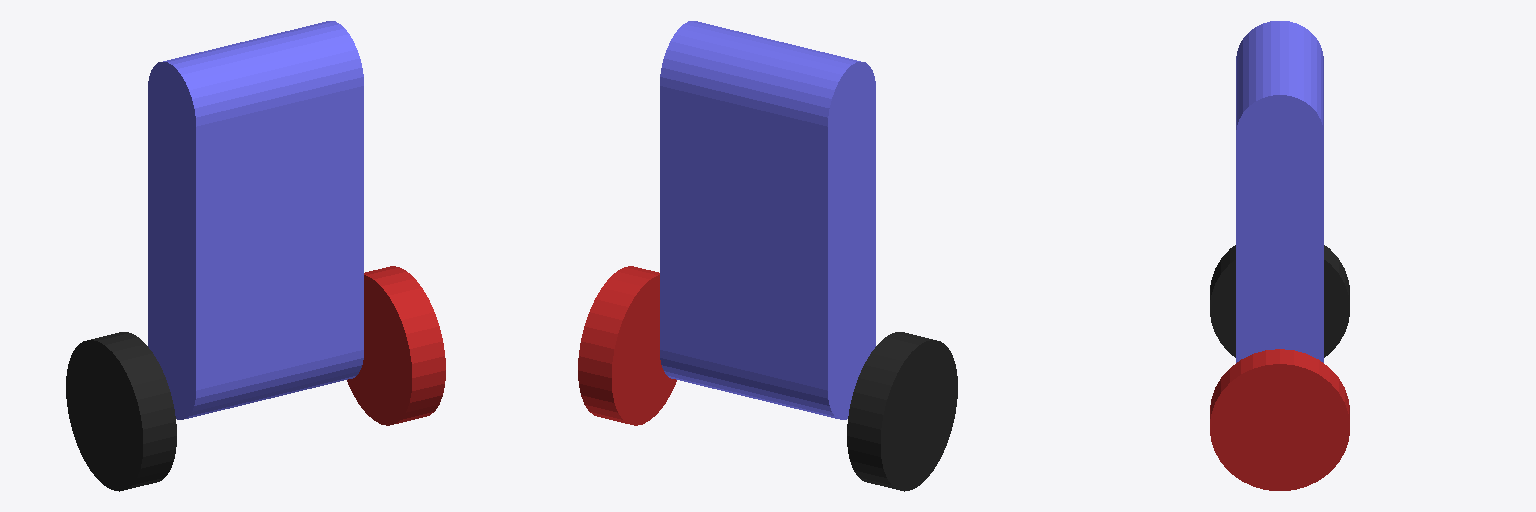
The robot description file, URDF, robot "segway_robot":
<?xml version="1.0"?>
<robot name="segway_robot">

  <!-- ============================================ -->
  <!-- BODY (Chassis)                          -->
  <!-- Dimensions: (X=20, Y=10, Z=40) cm            -->
  <!-- This is now the root link of the robot.      -->
  <!-- ============================================ -->
  <link name="body">
    <visual>
      <geometry>
        <mesh filename="bodySegway.obj"/>
      </geometry>
      <material name="blue">
        <color rgba="0.5 0.5 1 1"/>
      </material>
      <origin xyz="0 0 -0.20" rpy="0 0 0"/>
    </visual>
    
    <collision>
      <geometry>
        <box size="0.20 0.10 0.40"/>
      </geometry>
    </collision>
    
    <inertial>
      <mass value="2.5"/>
      <origin xyz="0 0 0.15" rpy="0 0 0"/>
      <inertia ixx="0.03" ixy="0.0" ixz="0.0"
               iyy="0.035" iyz="0.0" izz="0.02"/>
    </inertial>
  </link>

  <!-- ============================================ -->
  <!-- LEFT WHEEL                                   -->
  <!-- Dimensions: (Radius=8, Width=4) cm           -->
  <!-- ============================================ -->
  <link name="wheel_left">
    <visual>
      <geometry>
        <mesh filename="wheelSegway.obj"/>
      </geometry>
      <material name="black">
        <color rgba="0.2 0.2 0.2 1"/>
      </material>
      <origin xyz="-1.20 0 -0.10" rpy="0 0 0"/>
    </visual>
    
    <collision>
      <geometry>
        <cylinder radius="0.08" length="0.04"/>
      </geometry>
      <origin xyz="0 0 0" rpy="0 1.5708 0"/>
    </collision>
    
    <inertial>
      <mass value="0.15"/>
      <origin xyz="0 0 0" rpy="0 1.5708 0"/>
      <inertia ixx="0.00048" ixy="0.0" ixz="0.0"
               iyy="0.00026" iyz="0.0" izz="0.00026"/>
    </inertial>
  </link>

  <!-- ============================================ -->
  <!-- RIGHT WHEEL                                  -->
  <!-- Dimensions: (Radius=8, Width=4) cm           -->
  <!-- ============================================ -->
  <link name="wheel_right">
    <visual>
      <geometry>
        <mesh filename="wheelSegway.obj"/>
      </geometry>
      <material name="red">
        <color rgba="0.8 0.2 0.2 1"/>
      </material>
      <origin xyz="-1.20 0 -0.10" rpy="0 0 0"/>
    </visual>
    
    <collision>
      <geometry>
        <cylinder radius="0.08" length="0.04"/>
      </geometry>
      <origin xyz="0 0 0" rpy="0 1.5708 0"/>
    </collision>
    
    <inertial>
      <mass value="0.15"/>
      <origin xyz="0 0 0" rpy="0 1.5708 0"/>
      <inertia ixx="0.00048" ixy="0.0" ixz="0.0"
               iyy="0.00026" iyz="0.0" izz="0.00026"/>
    </inertial>
  </link>

  <!-- ============================================ -->
  <!-- LEFT WHEEL JOINT                             -->
  <!-- ============================================ -->
  <joint name="left_wheel_joint" type="continuous">
    <parent link="body"/>
    <child link="wheel_left"/>
    <origin xyz="-0.16 0.0 -0.15" rpy="0 0 0"/>
    <axis xyz="1 0 0"/>
    <dynamics damping="0.1" friction="0.0"/>
    <limit effort="2.5" velocity="12.0"/>
  </joint>

  <!-- ============================================ -->
  <!-- RIGHT WHEEL JOINT                            -->
  <!-- ============================================ -->
  <joint name="right_wheel_joint" type="continuous">
    <parent link="body"/>
    <child link="wheel_right"/>
    <origin xyz="0.16 0.0 -0.15" rpy="0 0 0"/>
    <axis xyz="1 0 0"/>
    <dynamics damping="0.1" friction="0.0"/>
    <limit effort="2.5" velocity="12.0"/>
  </joint>

</robot>

--- Render facts (derived) ---
3 views of the same robot in one strip: view 1: azimuth 30°, elevation 25°; view 2: azimuth 150°, elevation 25°; view 3: azimuth 270°, elevation 25° (orthographic).
Model segway_robot with 3 links and 2 joints (2 continuous), rooted at body, posed every joint at zero.
Visible links, largest first — view 1: body, wheel_left, wheel_right; view 2: body, wheel_left, wheel_right; view 3: body, wheel_right, wheel_left.
Link boxes in pixels (left/top/right/bottom): body: left=148, top=21, right=363, bottom=419; wheel_left: left=66, top=332, right=176, bottom=491; wheel_right: left=347, top=266, right=445, bottom=425; body: left=660, top=21, right=875, bottom=419; wheel_left: left=847, top=332, right=957, bottom=491; wheel_right: left=578, top=266, right=676, bottom=425; body: left=1236, top=21, right=1323, bottom=362; wheel_right: left=1210, top=349, right=1349, bottom=490; wheel_left: left=1210, top=245, right=1349, bottom=357.
Size in the robot's own frame: 0.36 by 0.16 by 0.46 metres.
3 mesh visuals loaded from 2 distinct referenced files (2 OBJ).